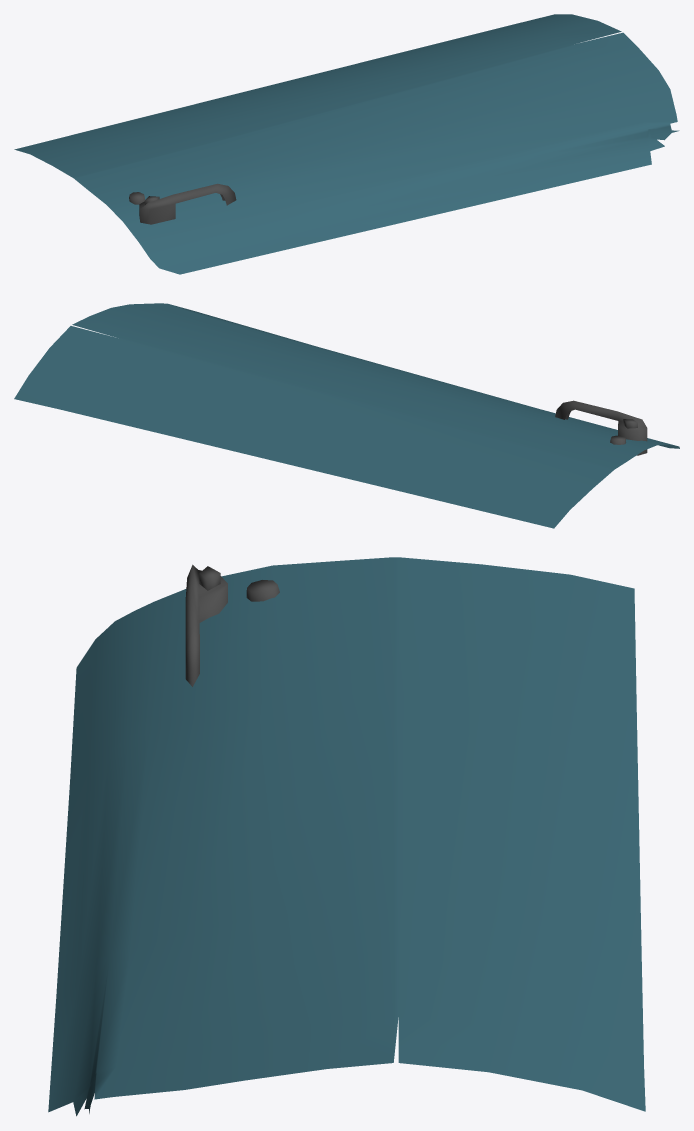
File: CamaroDoorLeft.obj
3 renders of one model, top to bottom at view 1: azimuth 30°, elevation 25°; view 2: azimuth 150°, elevation 25°; view 3: azimuth 270°, elevation 25°, orthographic. The views are drawn at different scales.
Size of the model in its own units: 5.32 by 0.5151 by 2.53.
